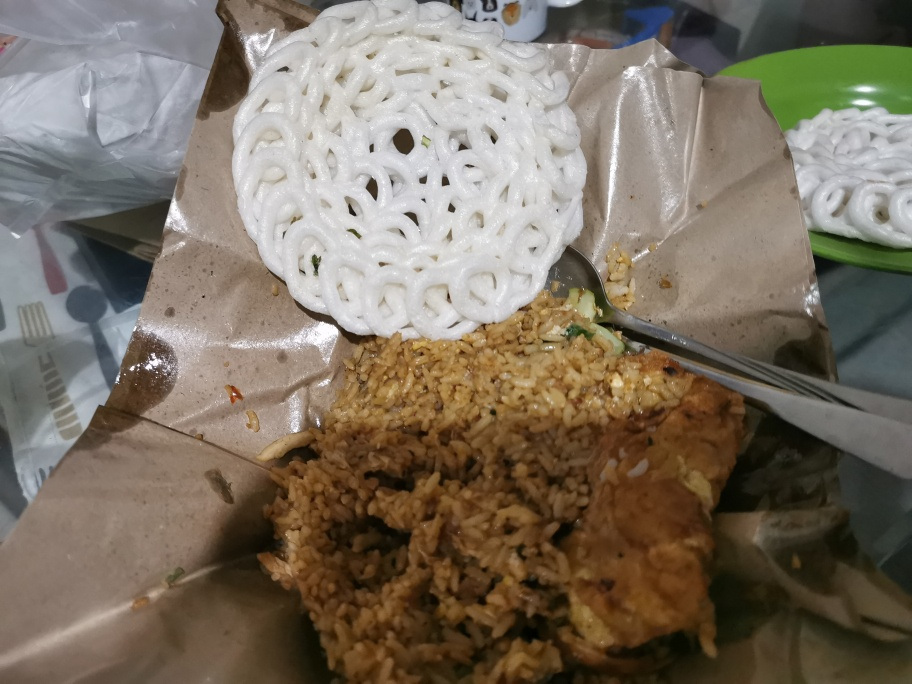kerupuk: (225, 1, 586, 333)
nasi goreng: (255, 335, 743, 684)
